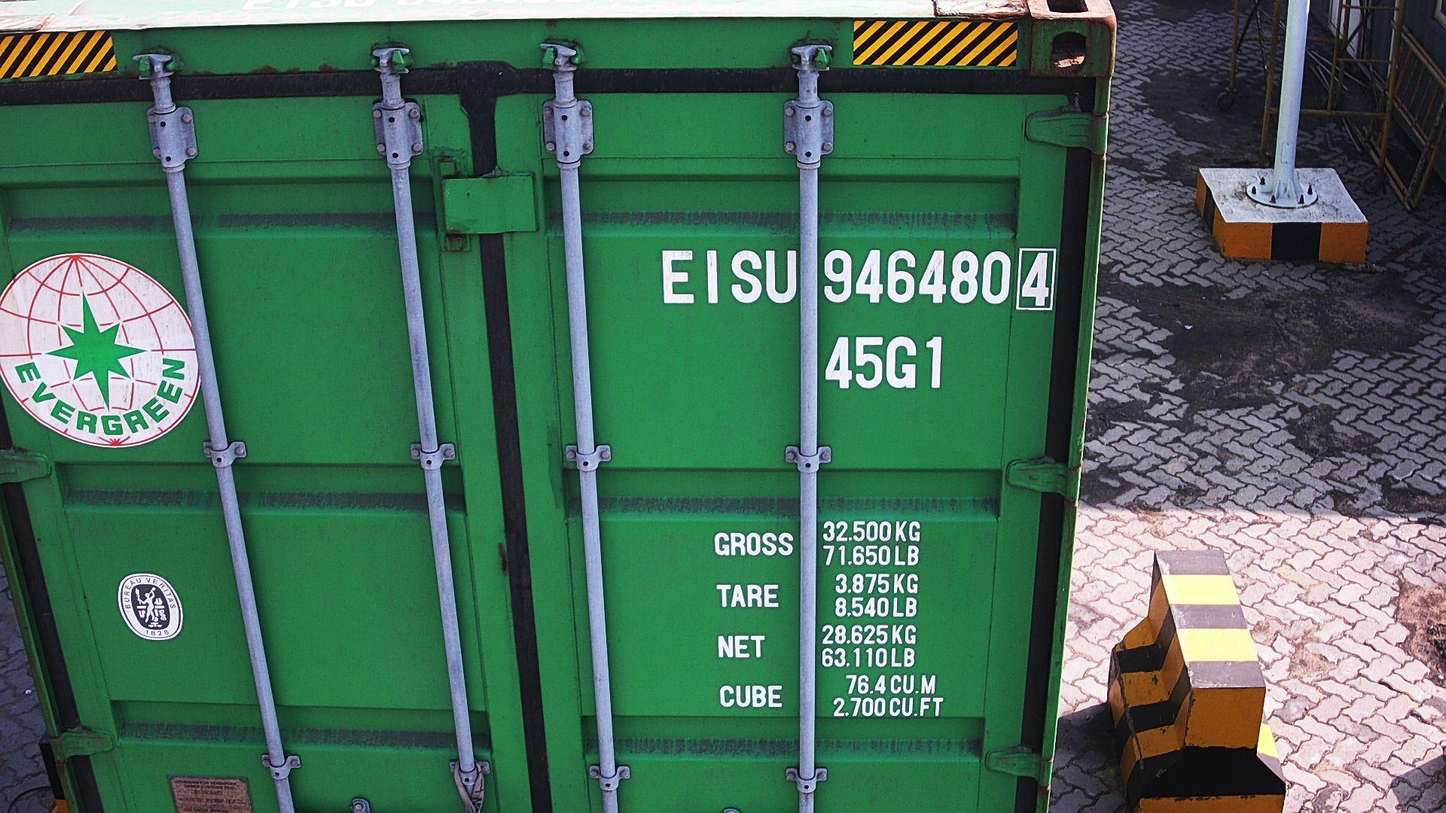container-numbers: (654, 242, 1063, 314), (819, 331, 953, 394)
